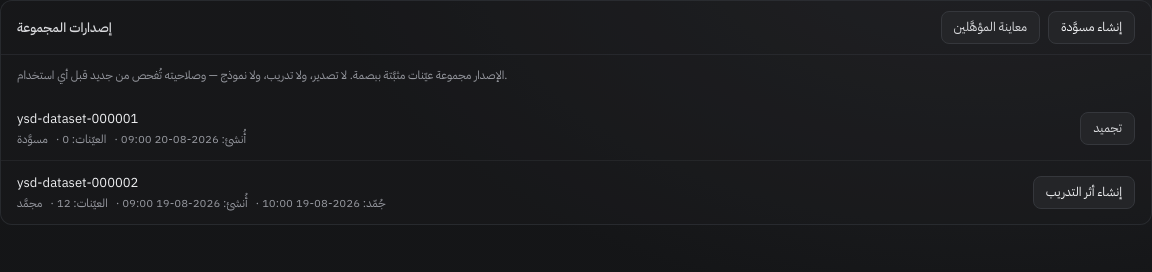
Test: ★ (٣) المسوَّدة — جسمٌ بلا معرّفات › ★ ★ ولا مؤهَّل ⇒ رسالةٌ صريحة لا عطل
This screenshot has width=1152, height=272.
Click the button "إنشاء مسوَّدة": coordinates (1092, 27) [1048,11,1135,44]
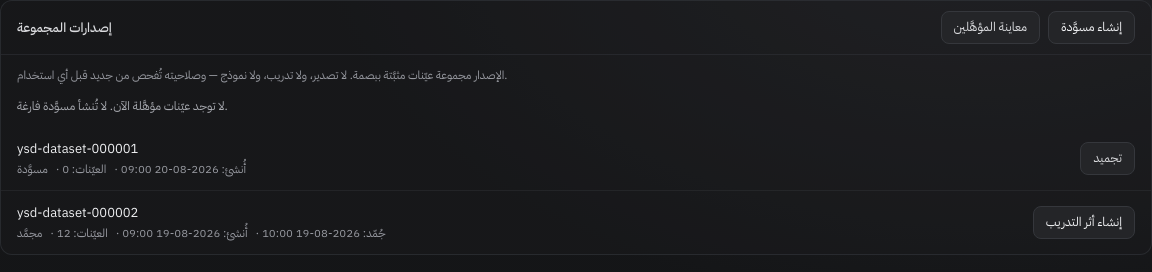
Expected: the text "لا توجد عيّنات مؤهَّلة الآن" is shown, [17,97,228,115]
